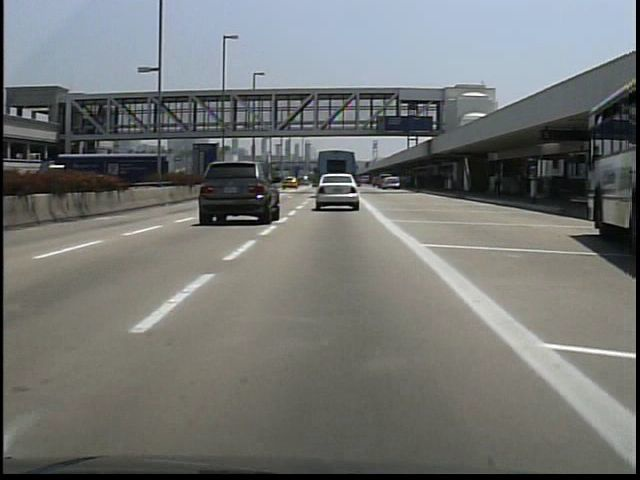person: (487, 166, 508, 203)
